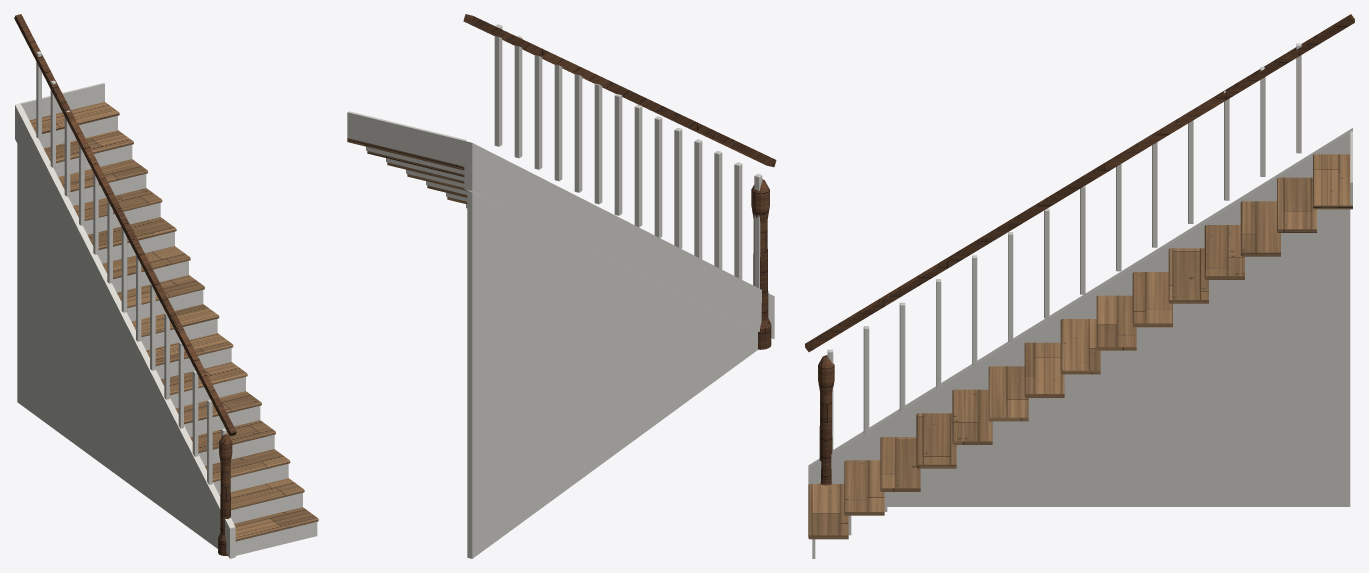
File: stair.glb
3 renders of one model, left to right at view 1: azimuth 30°, elevation 25°; view 2: azimuth 150°, elevation 25°; view 3: azimuth 270°, elevation 25°, orthographic. The views are drawn at different scales.
Parts seen in each view (by area): view 1: stair_trim, stair_deck, stair_dkwood; view 2: stair_trim, stair_dkwood, stair_deck; view 3: stair_trim, stair_deck, stair_dkwood.
Boxes of the visible parts, bbox=[...] form: stair_trim: bbox=[15, 51, 317, 558]; stair_deck: bbox=[29, 102, 318, 541]; stair_dkwood: bbox=[14, 14, 236, 555]; stair_trim: bbox=[347, 24, 774, 558]; stair_dkwood: bbox=[463, 14, 776, 349]; stair_deck: bbox=[347, 138, 468, 204]; stair_trim: bbox=[808, 43, 1352, 558]; stair_deck: bbox=[808, 154, 1352, 539]; stair_dkwood: bbox=[805, 14, 1354, 485].
Size of the model in its own units: 0.978 by 3.9 by 3.97.
Materials: 3 (2 with a texture image).
